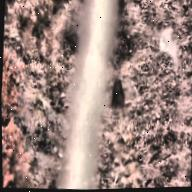boar: (108, 77, 130, 117)
